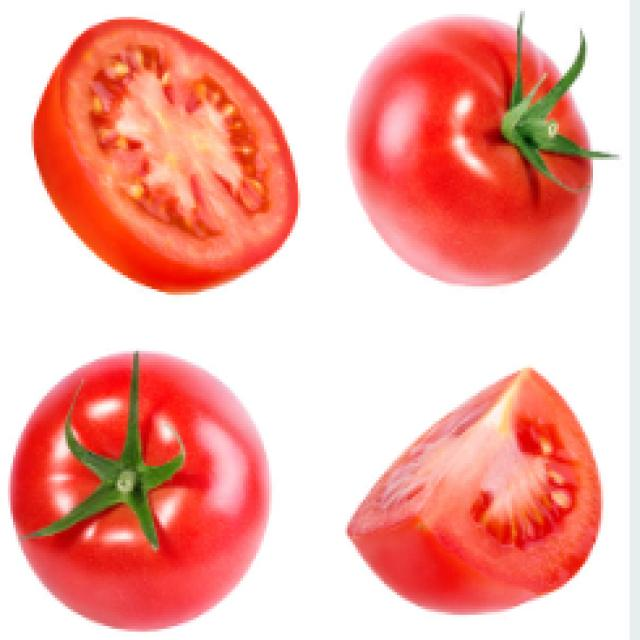Tomato: (27, 11, 300, 299), (352, 20, 616, 298), (354, 362, 622, 617), (18, 346, 271, 598)
